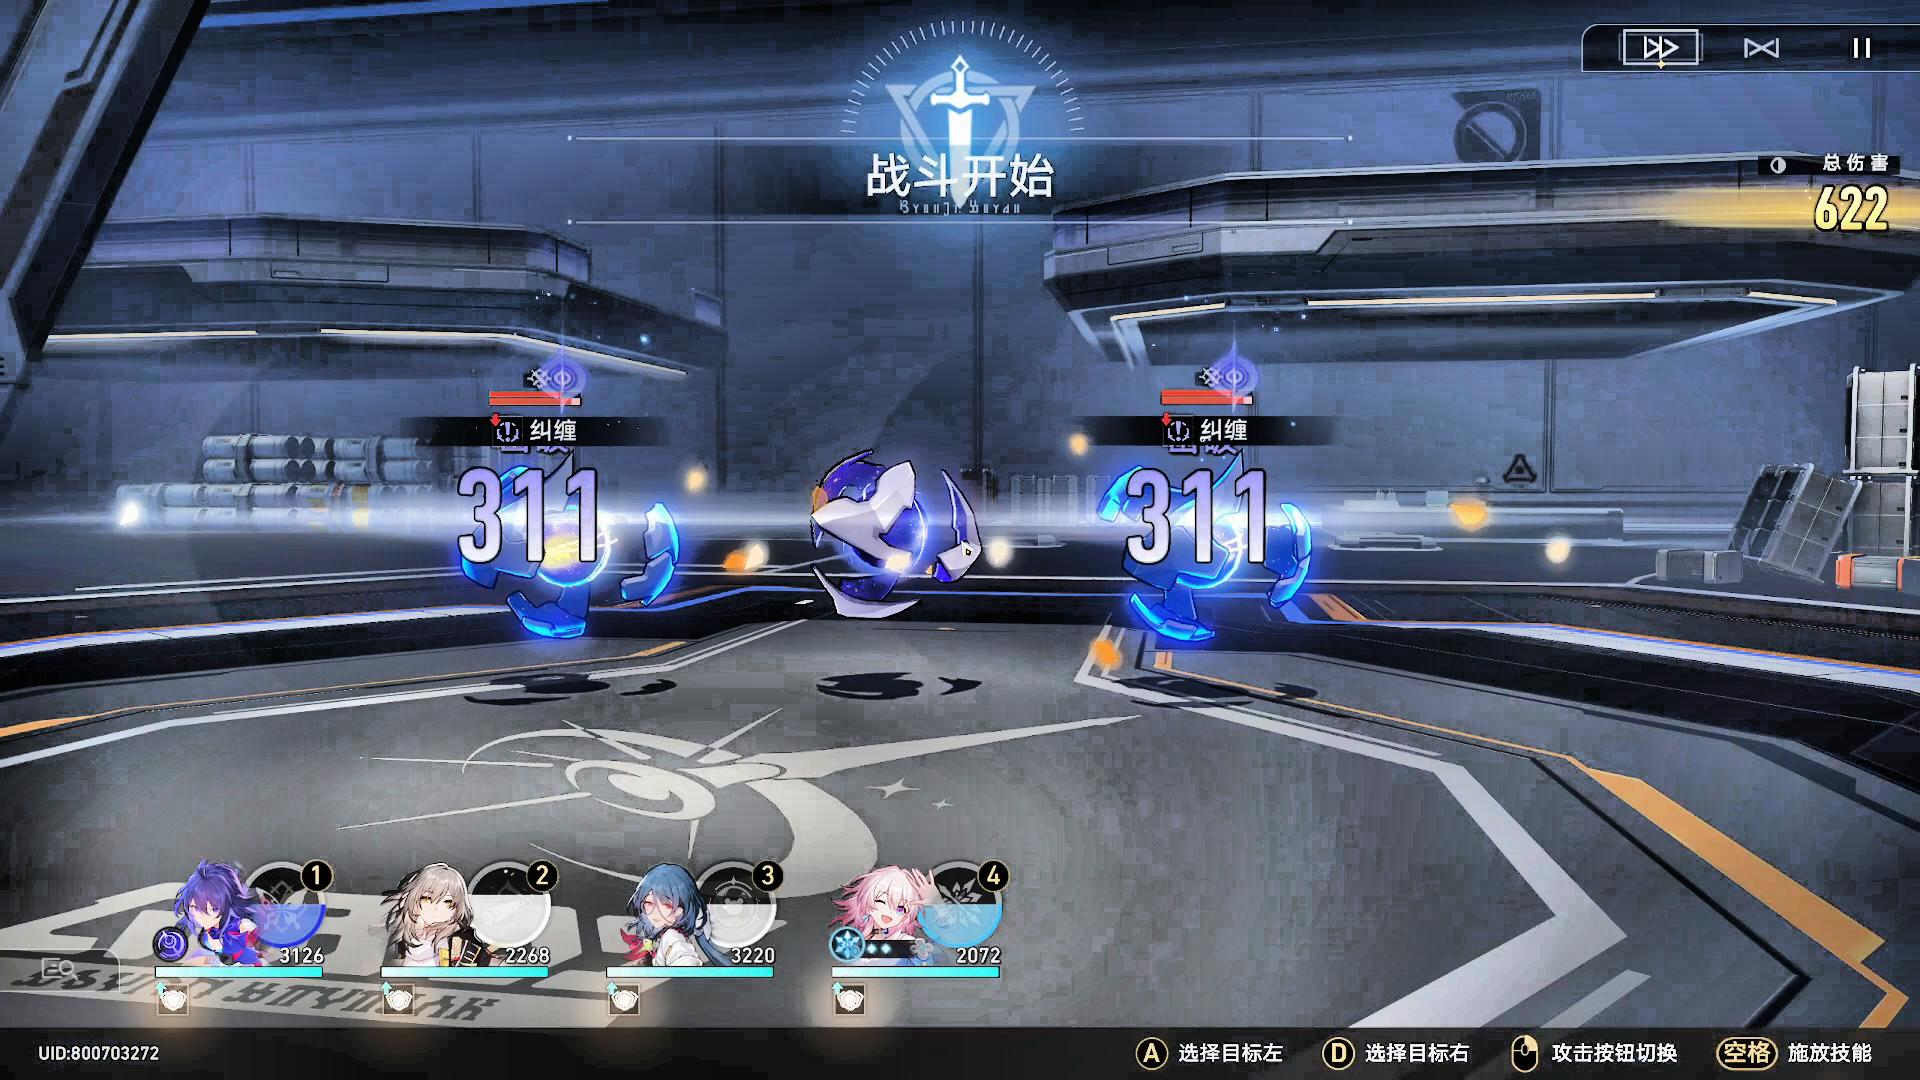Enemy: (1075, 459, 1331, 671), (454, 454, 684, 653), (773, 455, 994, 640)
